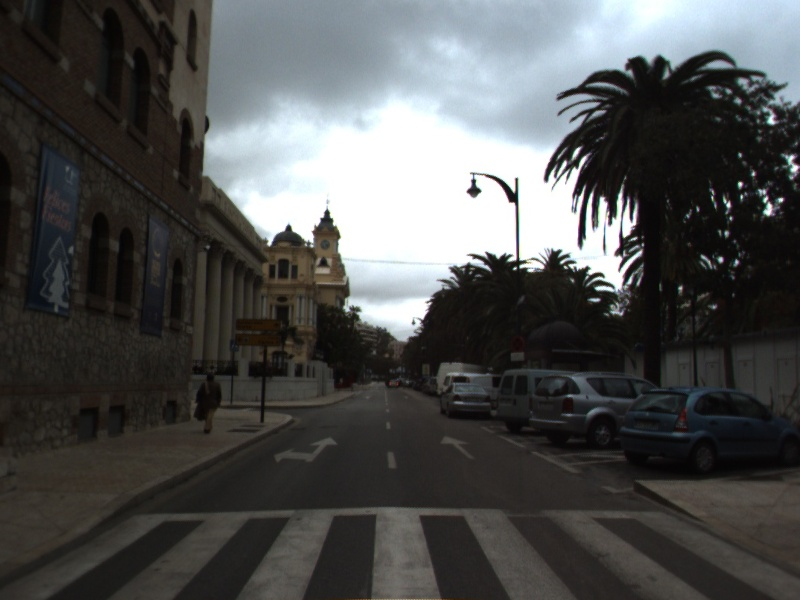STRAIGHT: (438, 433, 477, 461)
STRAIGHT_LEFT: (271, 435, 340, 465)
